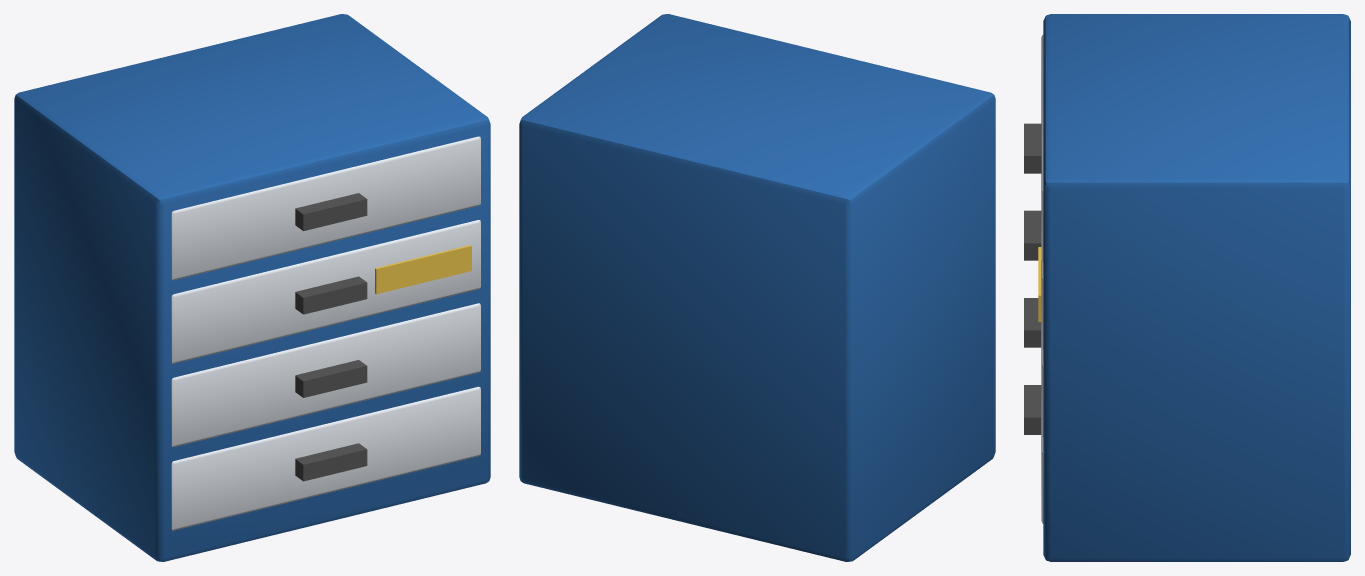
Rendered from parts_drawers.glb.
3 renders of one model, left to right at view 1: azimuth 30°, elevation 25°; view 2: azimuth 150°, elevation 25°; view 3: azimuth 270°, elevation 25°, orthographic. The views are drawn at different scales.
Visible parts, largest first — view 1: cabinet, drawer_0, drawer_2, drawer_1, drawer_3; view 2: cabinet; view 3: cabinet, drawer_0, drawer_1, drawer_3, drawer_2.
Part boxes in pixels (left/top/right/bottom): cabinet: left=14, top=14, right=490, bottom=561; drawer_0: left=171, top=136, right=480, bottom=280; drawer_2: left=171, top=303, right=480, bottom=446; drawer_1: left=171, top=220, right=480, bottom=363; drawer_3: left=171, top=386, right=480, bottom=530; cabinet: left=519, top=14, right=995, bottom=561; cabinet: left=1043, top=14, right=1350, bottom=561; drawer_0: left=1024, top=34, right=1043, bottom=262; drawer_1: left=1024, top=210, right=1043, bottom=349; drawer_3: left=1024, top=385, right=1043, bottom=523; drawer_2: left=1024, top=298, right=1043, bottom=436.
Size of the model in its own units: 0.42 by 0.44 by 0.34.
